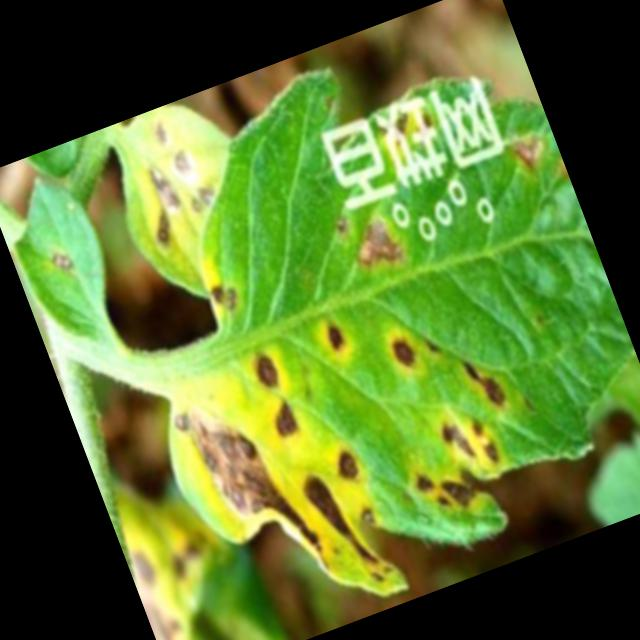Early_blight: (169, 377, 334, 610), (297, 461, 397, 597), (407, 445, 497, 527), (128, 161, 193, 251), (430, 404, 502, 479), (343, 210, 411, 279), (455, 347, 513, 420), (374, 102, 438, 153), (325, 437, 375, 494), (260, 393, 308, 451), (380, 325, 422, 382), (507, 128, 553, 175), (242, 346, 287, 394), (202, 275, 243, 322), (163, 144, 202, 190), (146, 114, 178, 152), (322, 320, 350, 353), (47, 249, 75, 274)
